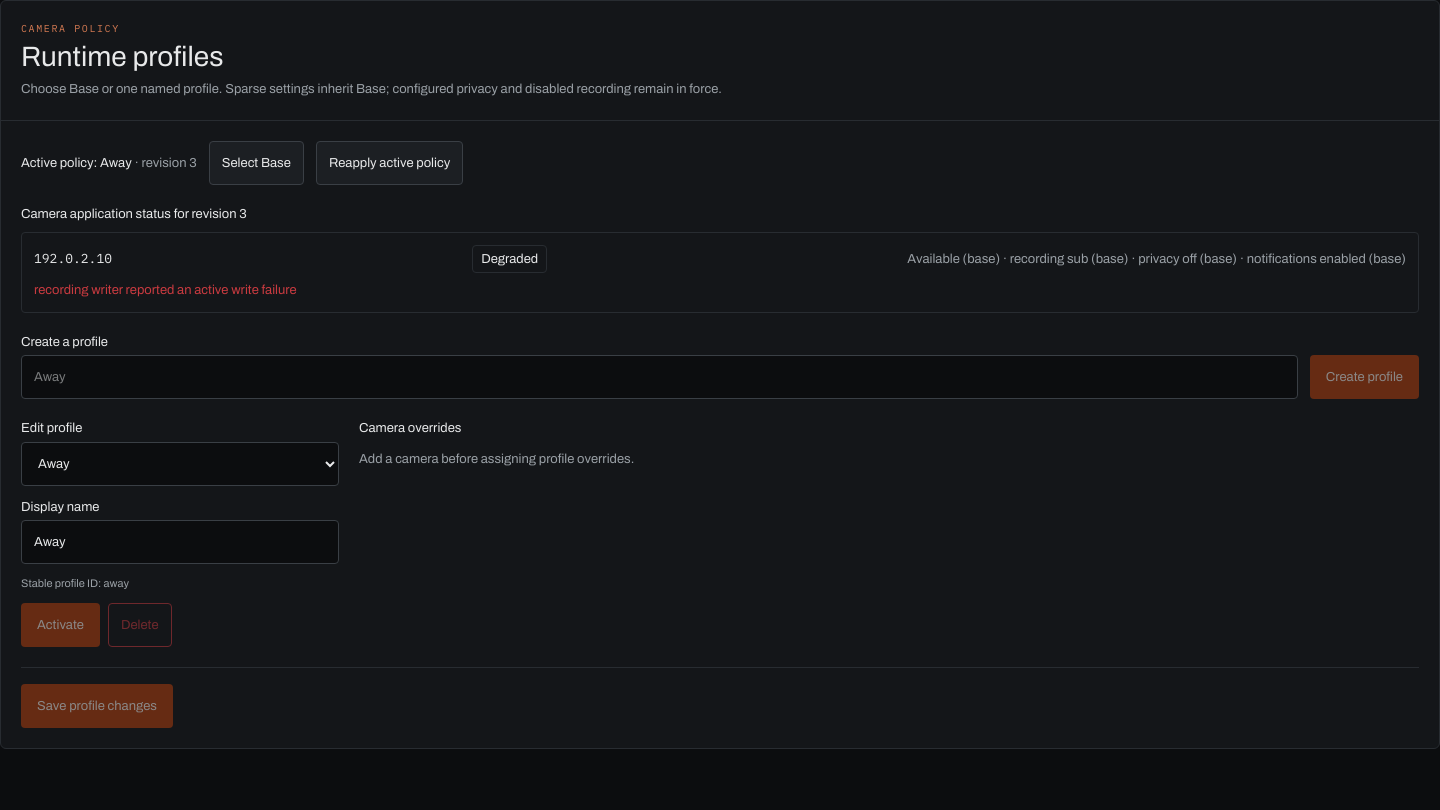
Scenario: RuntimeProfilesSection › does not reapply with unsaved edits
This screenshot has width=1440, height=810.
Expected: the button "Reapply active policy" is enabled, top-left (316, 141), bottom-right (463, 185)
Replace the text in the field labelled "Display name" with "Unsaved name": (180, 542) top-left (21, 520), bottom-right (339, 564)
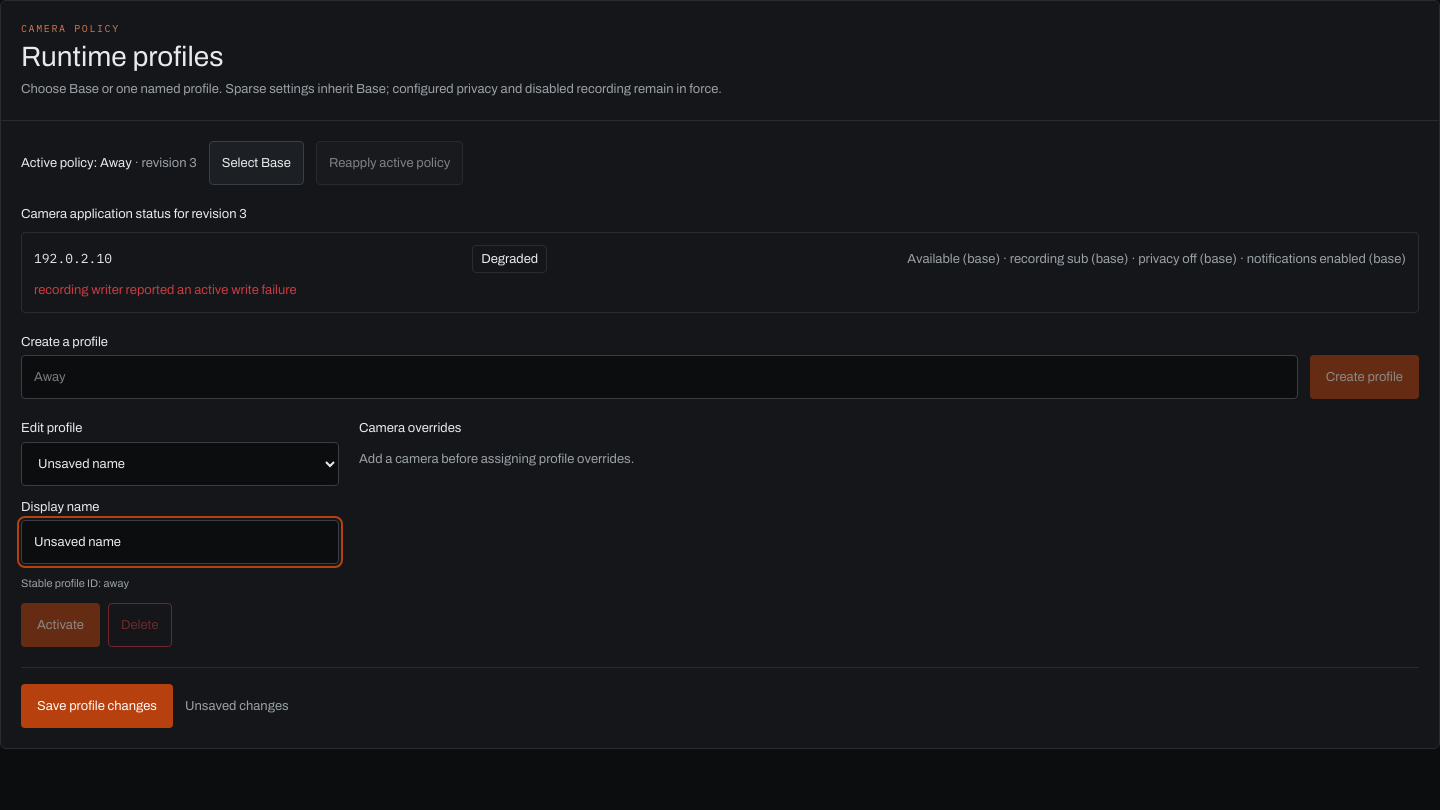
Result: the button "Reapply active policy" is disabled at top-left (316, 141), bottom-right (463, 185)
